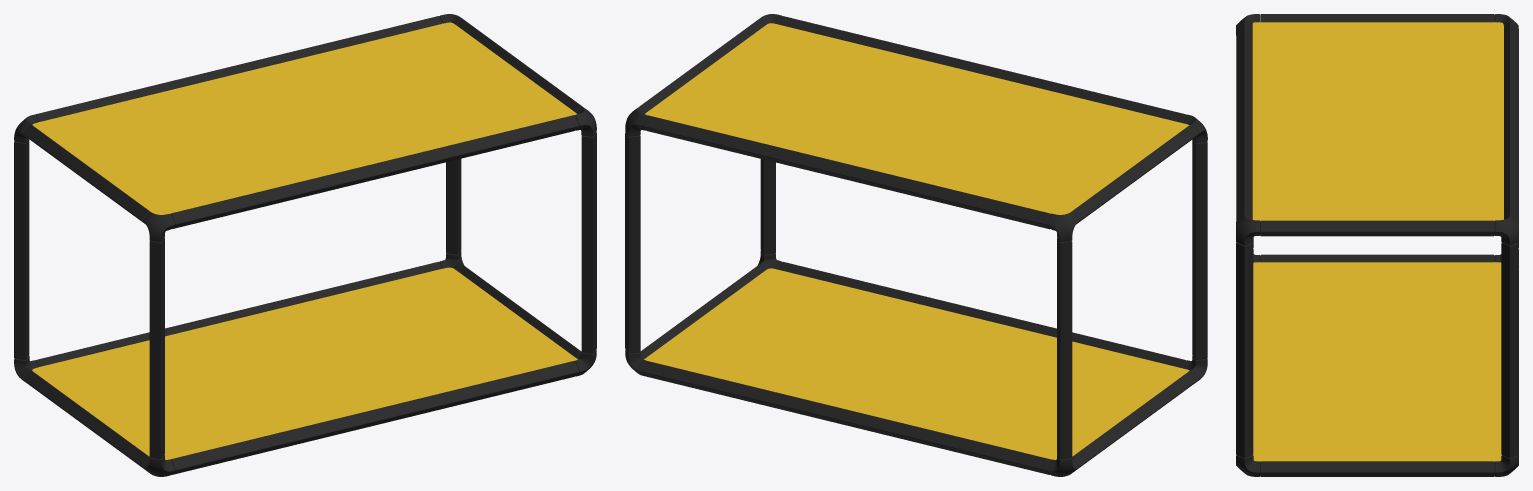
The picture shows the model from 3 angles, left to right: view 1: azimuth 30°, elevation 25°; view 2: azimuth 150°, elevation 25°; view 3: azimuth 270°, elevation 25°; orthographic projection. The views are drawn at different scales.
Parts seen in each view (by area): view 1: 729x374x374; view 2: 729x374x374; view 3: 729x374x374.
Part boxes in pixels (left/top/right/bottom): 729x374x374: left=14, top=14, right=596, bottom=476; 729x374x374: left=625, top=14, right=1207, bottom=476; 729x374x374: left=1236, top=14, right=1518, bottom=476.
Bounding box in the file's own units: 0.8067 × 0.4516 × 0.4513.
